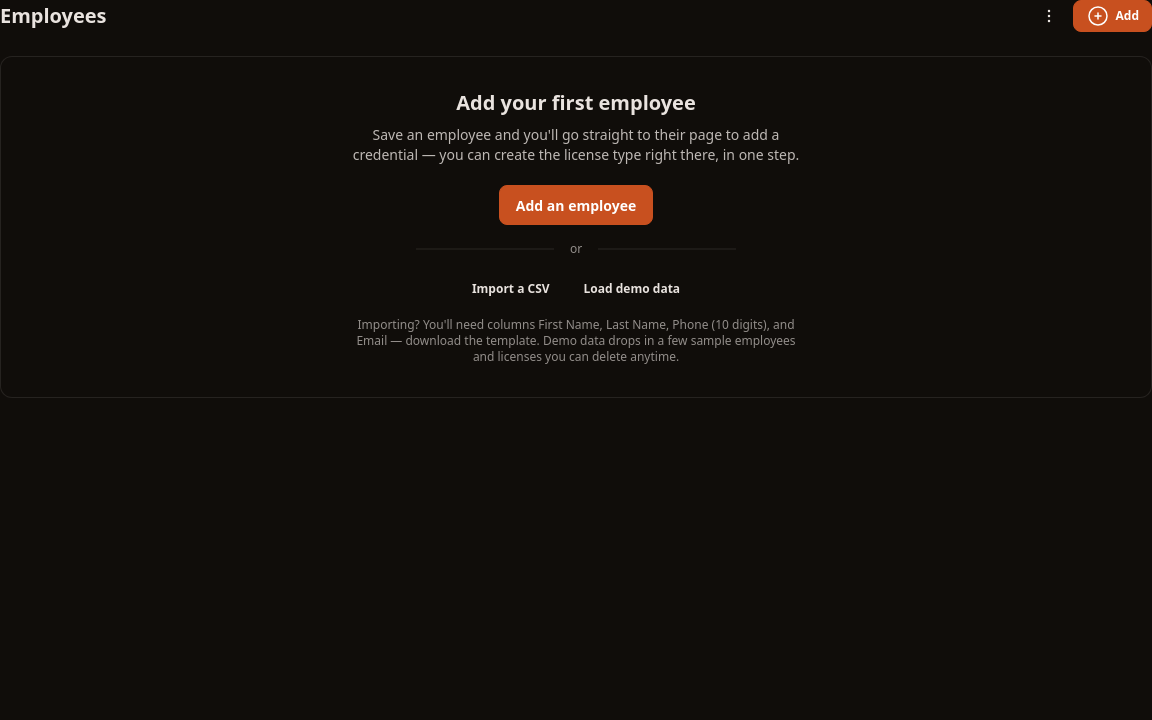
Test: Employees add flow › surfaces the server error message when add fails
The image size is (1152, 720).
Check: the heading "Add your first employee" is shown, box [456,89,696,116]
Click the button "Add an employee" at (576, 205), box [499,185,653,225]
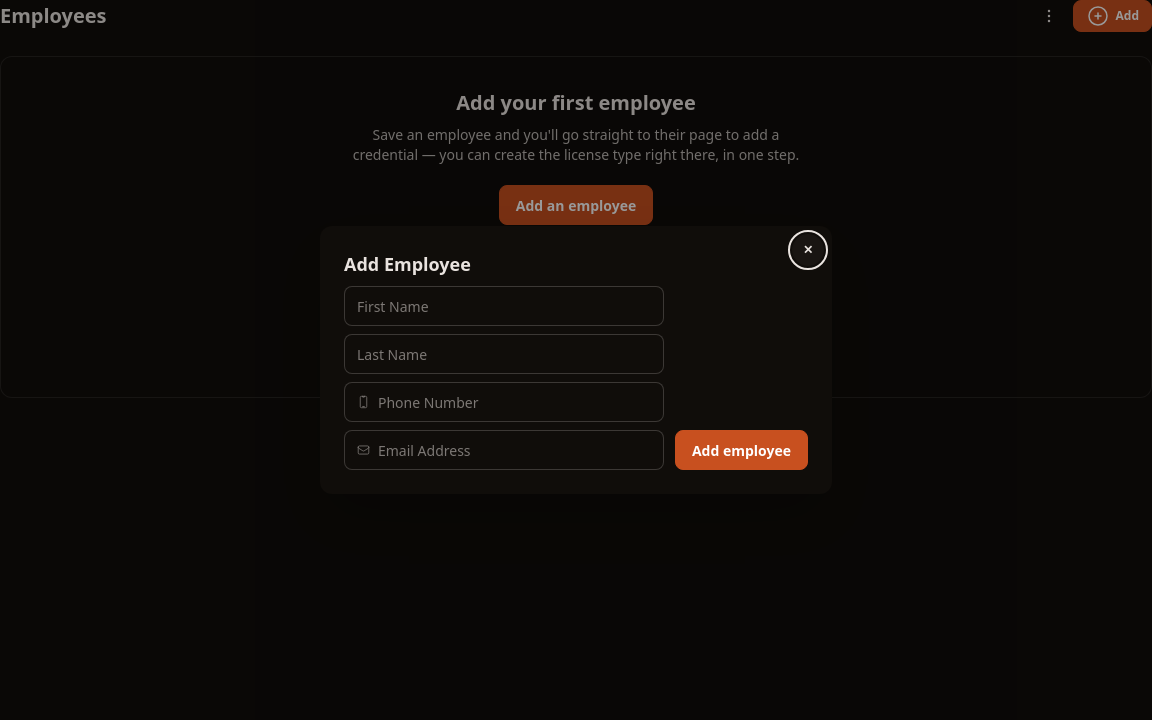
Type "Sam" into the field with placeholder "First Name" at (504, 306), box [357,287,651,325]
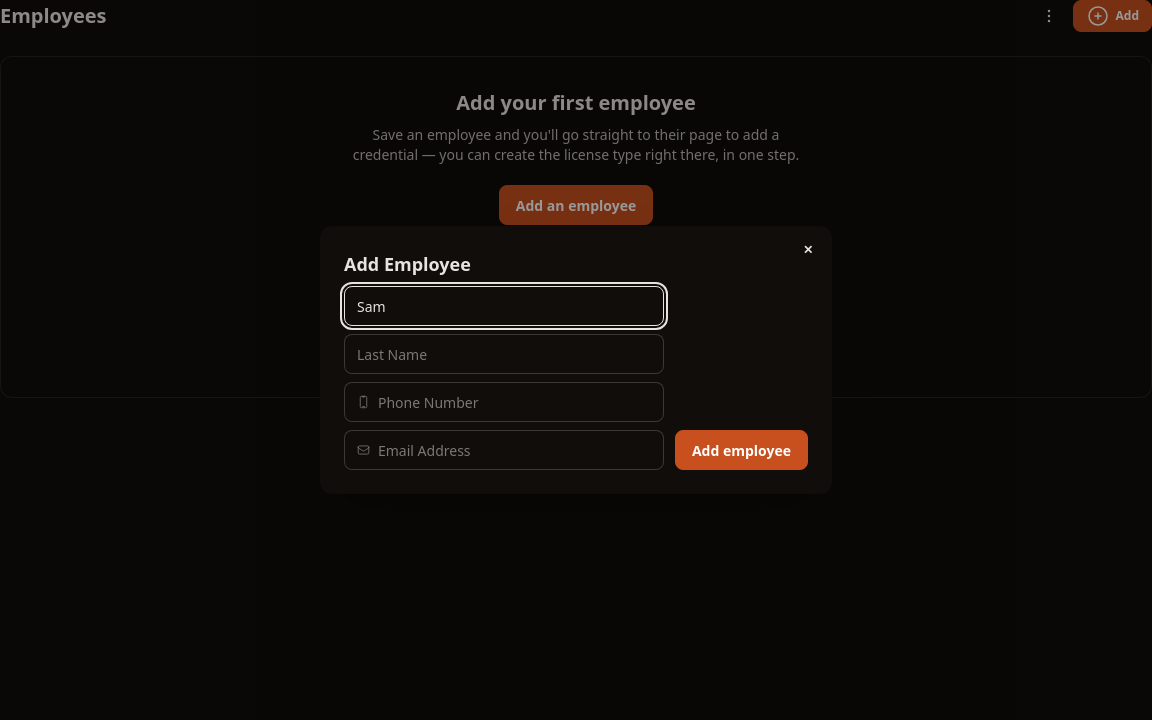
Type "Doe" into the field with placeholder "Last Name" at (504, 354), box [357,335,651,373]
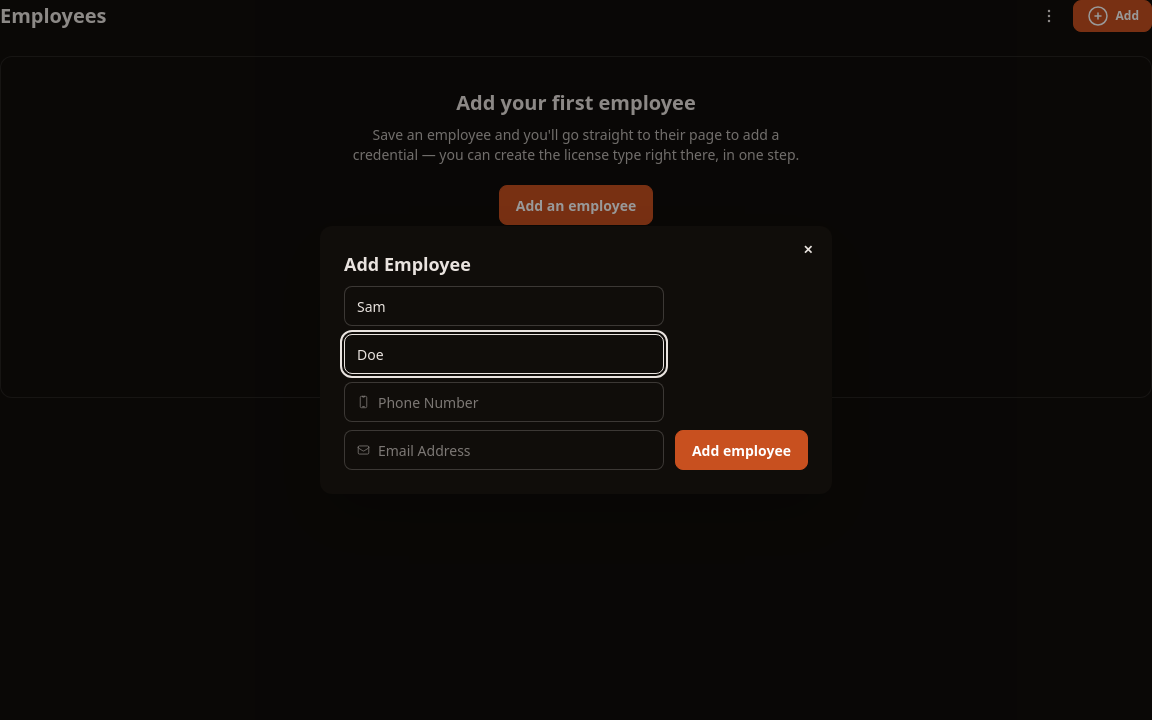
Type "5551112222" into the field with placeholder "Phone Number" at (514, 402), box [378,383,651,421]
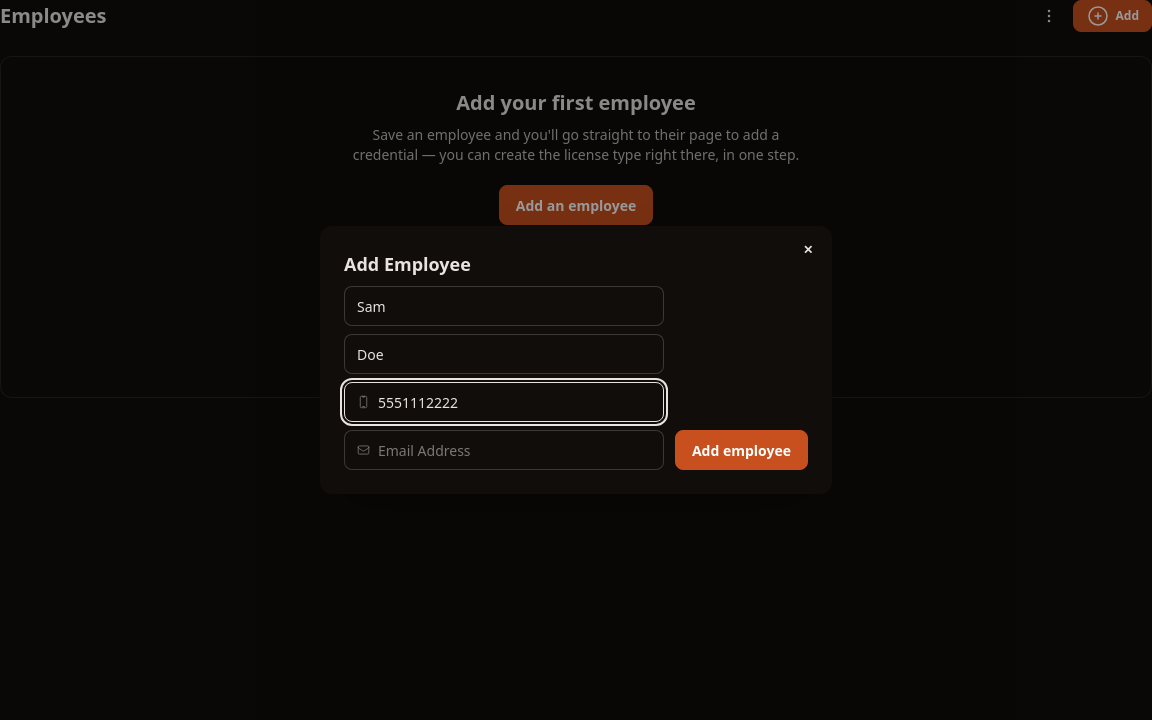
Type "sam@example.com" into the field with placeholder "Email Address" at (514, 450), box [378,431,651,469]
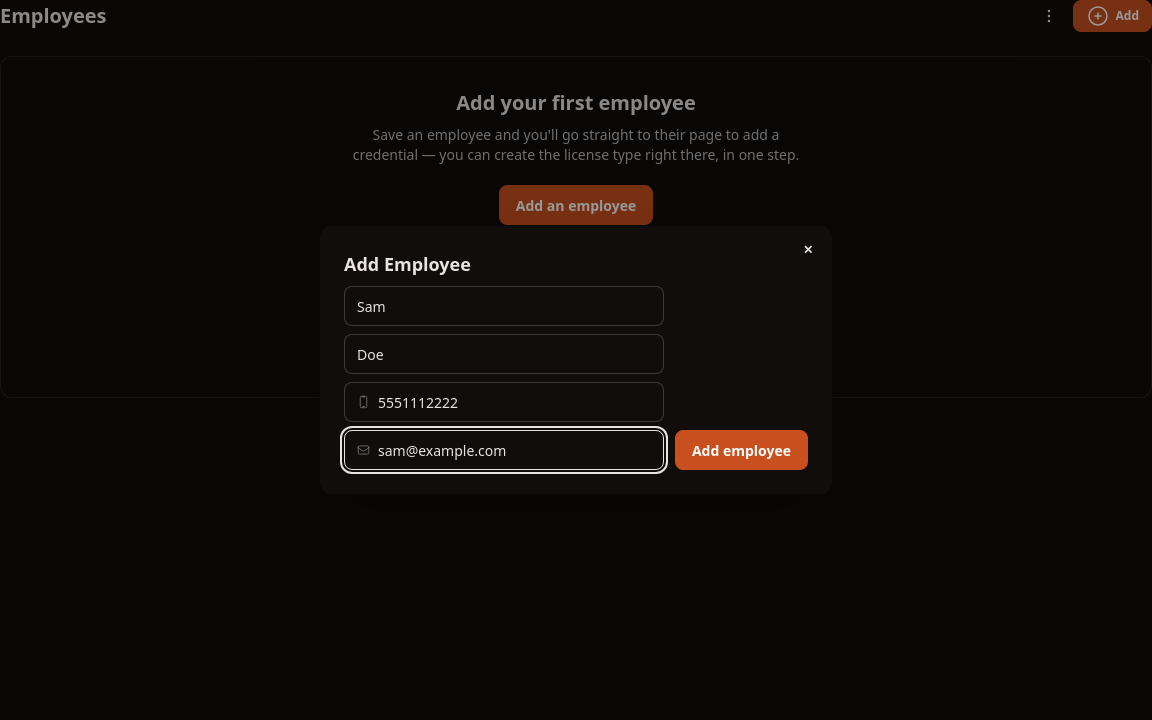
Click the button "Add employee" at (741, 450), box [675,430,808,470]
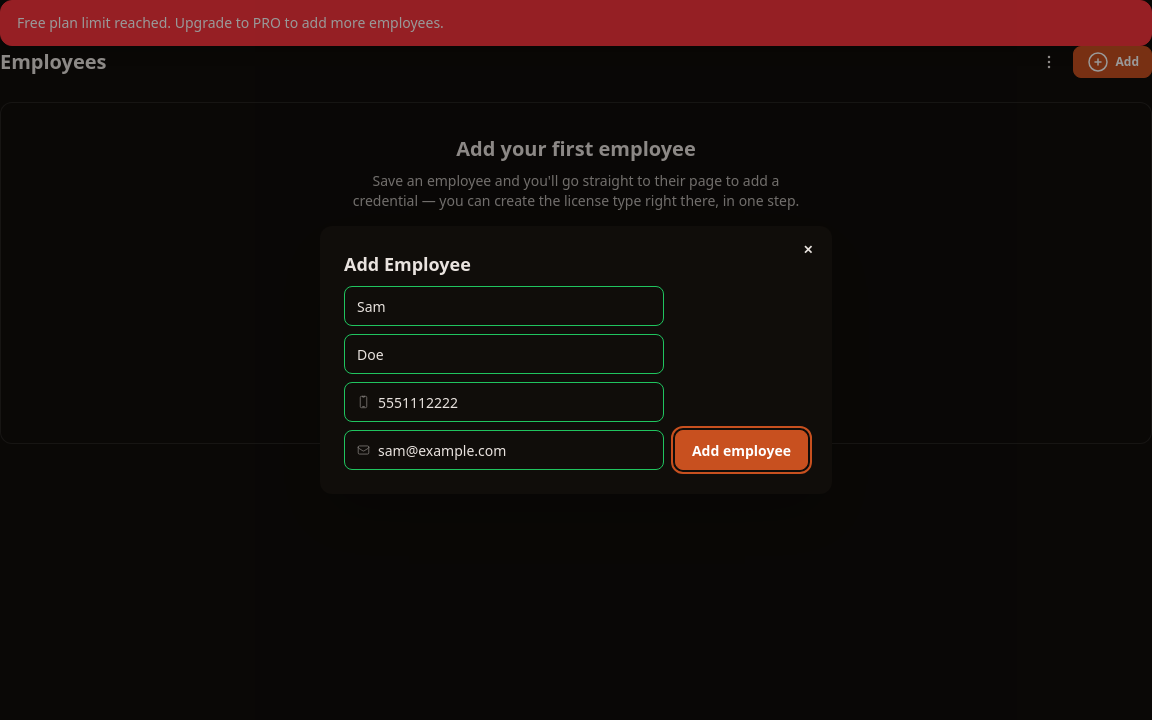
Check: the text "Free plan limit reached" is shown, box [17,13,444,32]
